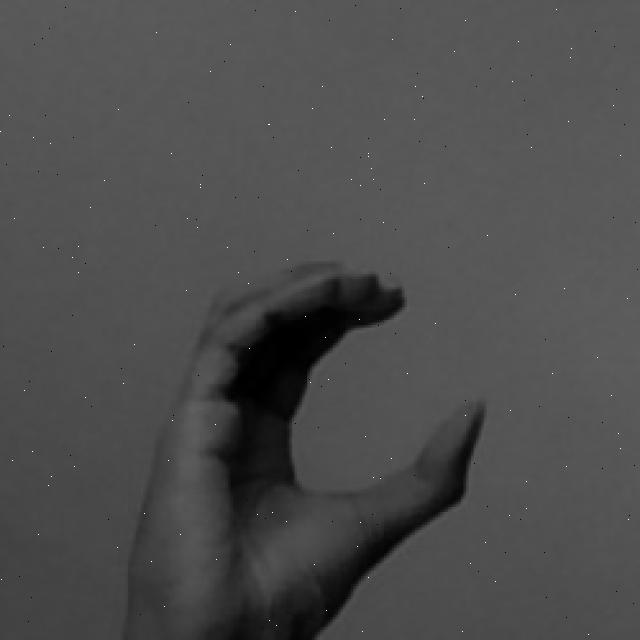C: (123, 261, 491, 640)
